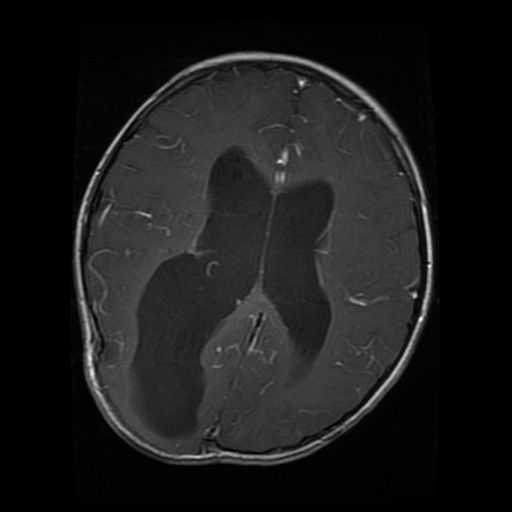glioma: (129, 245, 248, 437)
